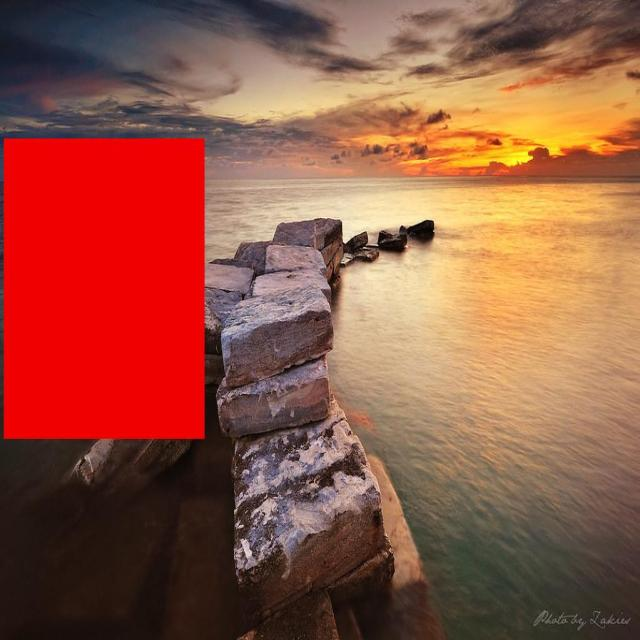RedSquare: (1, 131, 208, 444)
